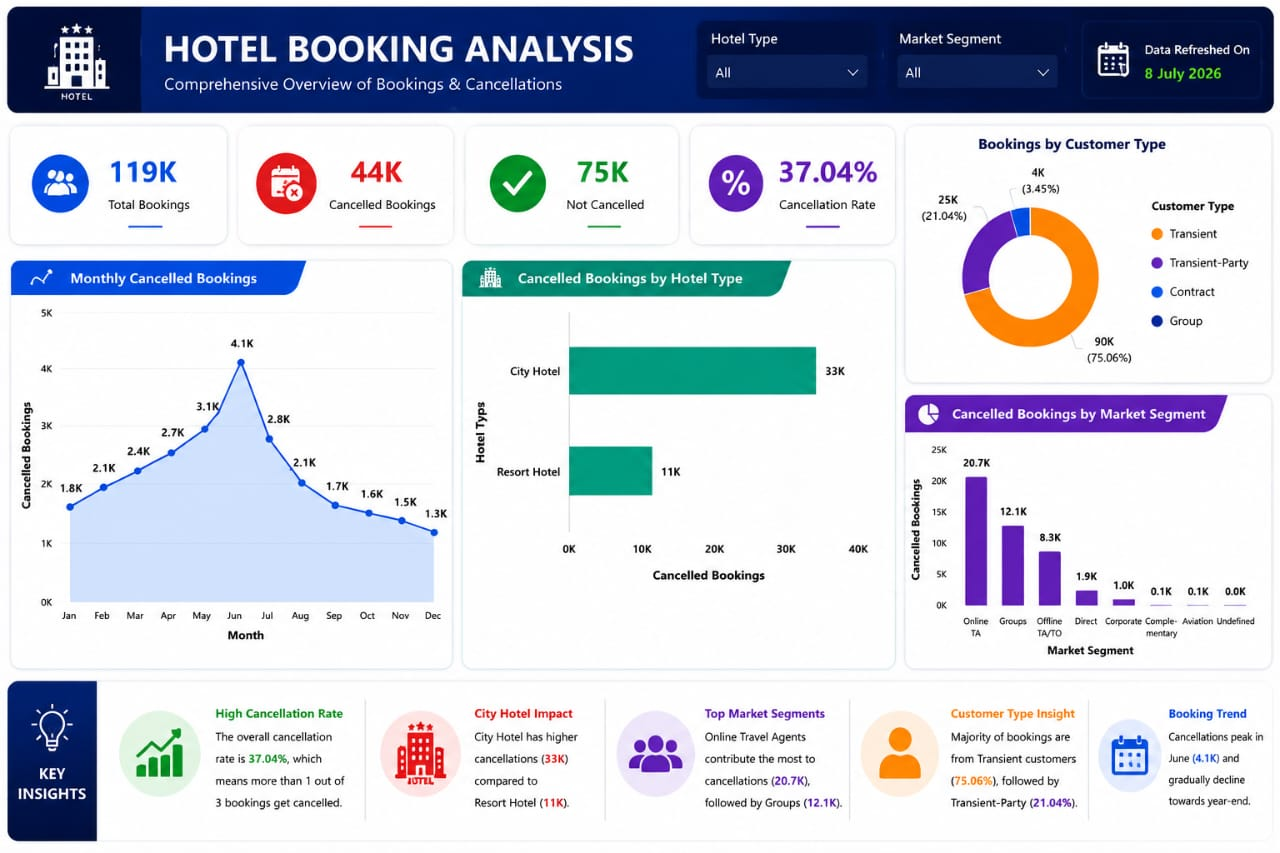

This screenshot's page, from the dashboard's own definition file:
{"tool":"powerbi","page":{"name":"Naman ( Infotact Solutions )","canvas":[1280,720],"ordinal":0},"visuals":[{"type":"card","fields":{"Values":["hotel_bookings.Total Bookings"]},"box":[0,74.1,161.9,107],"z":1000},{"type":"card","fields":{"Values":["hotel_bookings.Cancelled Bookings"]},"box":[161.9,74.1,185.2,107],"z":2000},{"type":"card","fields":{"Values":["hotel_bookings.Not Cancelled"]},"box":[347.2,74.1,182.5,107],"z":3000},{"type":"card","fields":{"Values":["hotel_bookings.Cancellation Rate"]},"box":[529.7,74.1,212.7,107],"z":4000},{"type":"lineChart","title":"Monthly Cancelled Bookings","fields":{"Category":["hotel_bookings.arrival_date_month"],"Y":["hotel_bookings.Cancelled Bookings"]},"box":[9.5,188.2,304.9,532],"z":5000},{"type":"barChart","title":"Cancelled Bookings by Hotel Type","fields":{"Y":["hotel_bookings.Cancelled Bookings"],"Category":["hotel_bookings.hotel"]},"box":[314.4,188.2,427.9,470],"z":6000},{"type":"columnChart","title":"Cancelled Bookings by Market Segment","fields":{"Category":["hotel_bookings.market_segment"],"Y":["hotel_bookings.Cancelled Bookings"]},"box":[742.3,324.9,538.3,395.3],"z":7000},{"type":"donutChart","title":"Bookings by Customer type","fields":{"Category":["hotel_bookings.customer_type"],"Y":["hotel_bookings.Total Bookings"]},"box":[742.3,75.7,372.2,249.2],"z":8000},{"type":"textbox","box":[28.8,0,1232.3,74.1],"z":9000},{"type":"slicer","fields":{"Values":["hotel_bookings.hotel"]},"box":[1125,0,135.6,88.3],"z":10000},{"type":"slicer","fields":{"Values":["hotel_bookings.arrival_date_day_of_month"]},"box":[314.4,658.2,427.9,62],"z":11000},{"type":"slicer","fields":{"Values":["hotel_bookings.market_segment"]},"box":[1125,103,135.6,221.8],"z":12000}]}

Visuals, with their boxes on the page's 1280x720 design canvas (x1, y1, x2, y2). These are canvas units, not pixel positions in the 1280x853 screenshot, which may show the page scaled, cropped or inside an application window:
card - hotel_bookings.Total Bookings: 0,74,162,181
card - hotel_bookings.Cancelled Bookings: 162,74,347,181
card - hotel_bookings.Not Cancelled: 347,74,530,181
card - hotel_bookings.Cancellation Rate: 530,74,742,181
"Monthly Cancelled Bookings" lineChart: 10,188,314,720
"Cancelled Bookings by Hotel Type" barChart: 314,188,742,658
"Cancelled Bookings by Market Segment" columnChart: 742,325,1281,720
"Bookings by Customer type" donutChart: 742,76,1114,325
textbox: 29,0,1261,74
slicer - hotel_bookings.hotel: 1125,0,1261,88
slicer - hotel_bookings.arrival_date_day_of_month: 314,658,742,720
slicer - hotel_bookings.market_segment: 1125,103,1261,325
